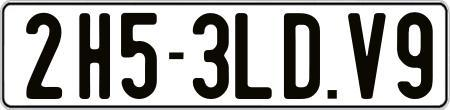2: (26, 12, 65, 101)
3: (193, 13, 235, 99)
5: (121, 11, 157, 98)
9: (395, 10, 432, 102)
D: (282, 10, 321, 97)
H: (77, 12, 113, 102)
L: (235, 11, 275, 99)
V: (345, 11, 385, 97)
